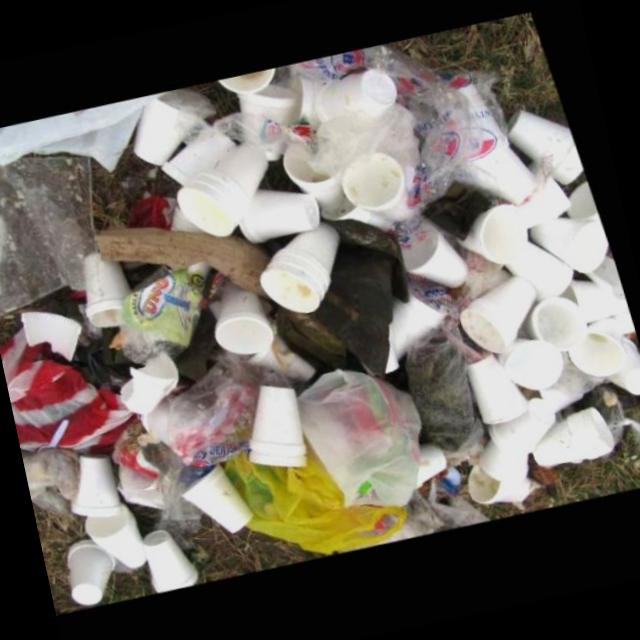carton: (100, 225, 280, 293)
tui_ni_long: (309, 42, 517, 202), (221, 447, 413, 554), (1, 332, 148, 460), (0, 151, 105, 327), (302, 374, 426, 505), (149, 350, 265, 469), (115, 415, 204, 544), (125, 261, 220, 365), (20, 446, 76, 518)
xop: (184, 137, 277, 237), (265, 218, 349, 313), (388, 271, 452, 374), (464, 275, 544, 353), (515, 107, 591, 183), (321, 67, 407, 133), (246, 76, 311, 160), (534, 406, 618, 468), (346, 148, 417, 220), (185, 465, 257, 535), (245, 186, 329, 244), (252, 386, 311, 468), (508, 235, 580, 302), (534, 211, 614, 271), (470, 352, 533, 425), (141, 98, 208, 166), (221, 280, 280, 355), (566, 258, 633, 323), (290, 143, 352, 213), (463, 202, 534, 262), (85, 251, 137, 332), (406, 228, 475, 287), (169, 131, 245, 184), (88, 507, 150, 571), (491, 399, 558, 456), (125, 352, 184, 416), (498, 336, 567, 390), (522, 161, 578, 225), (66, 542, 119, 609), (572, 315, 631, 374), (146, 531, 200, 595), (528, 296, 592, 350), (469, 466, 543, 509), (75, 458, 126, 520), (27, 313, 89, 362), (328, 198, 401, 230), (481, 441, 532, 480), (610, 335, 640, 394), (225, 67, 287, 93), (574, 179, 606, 218)
